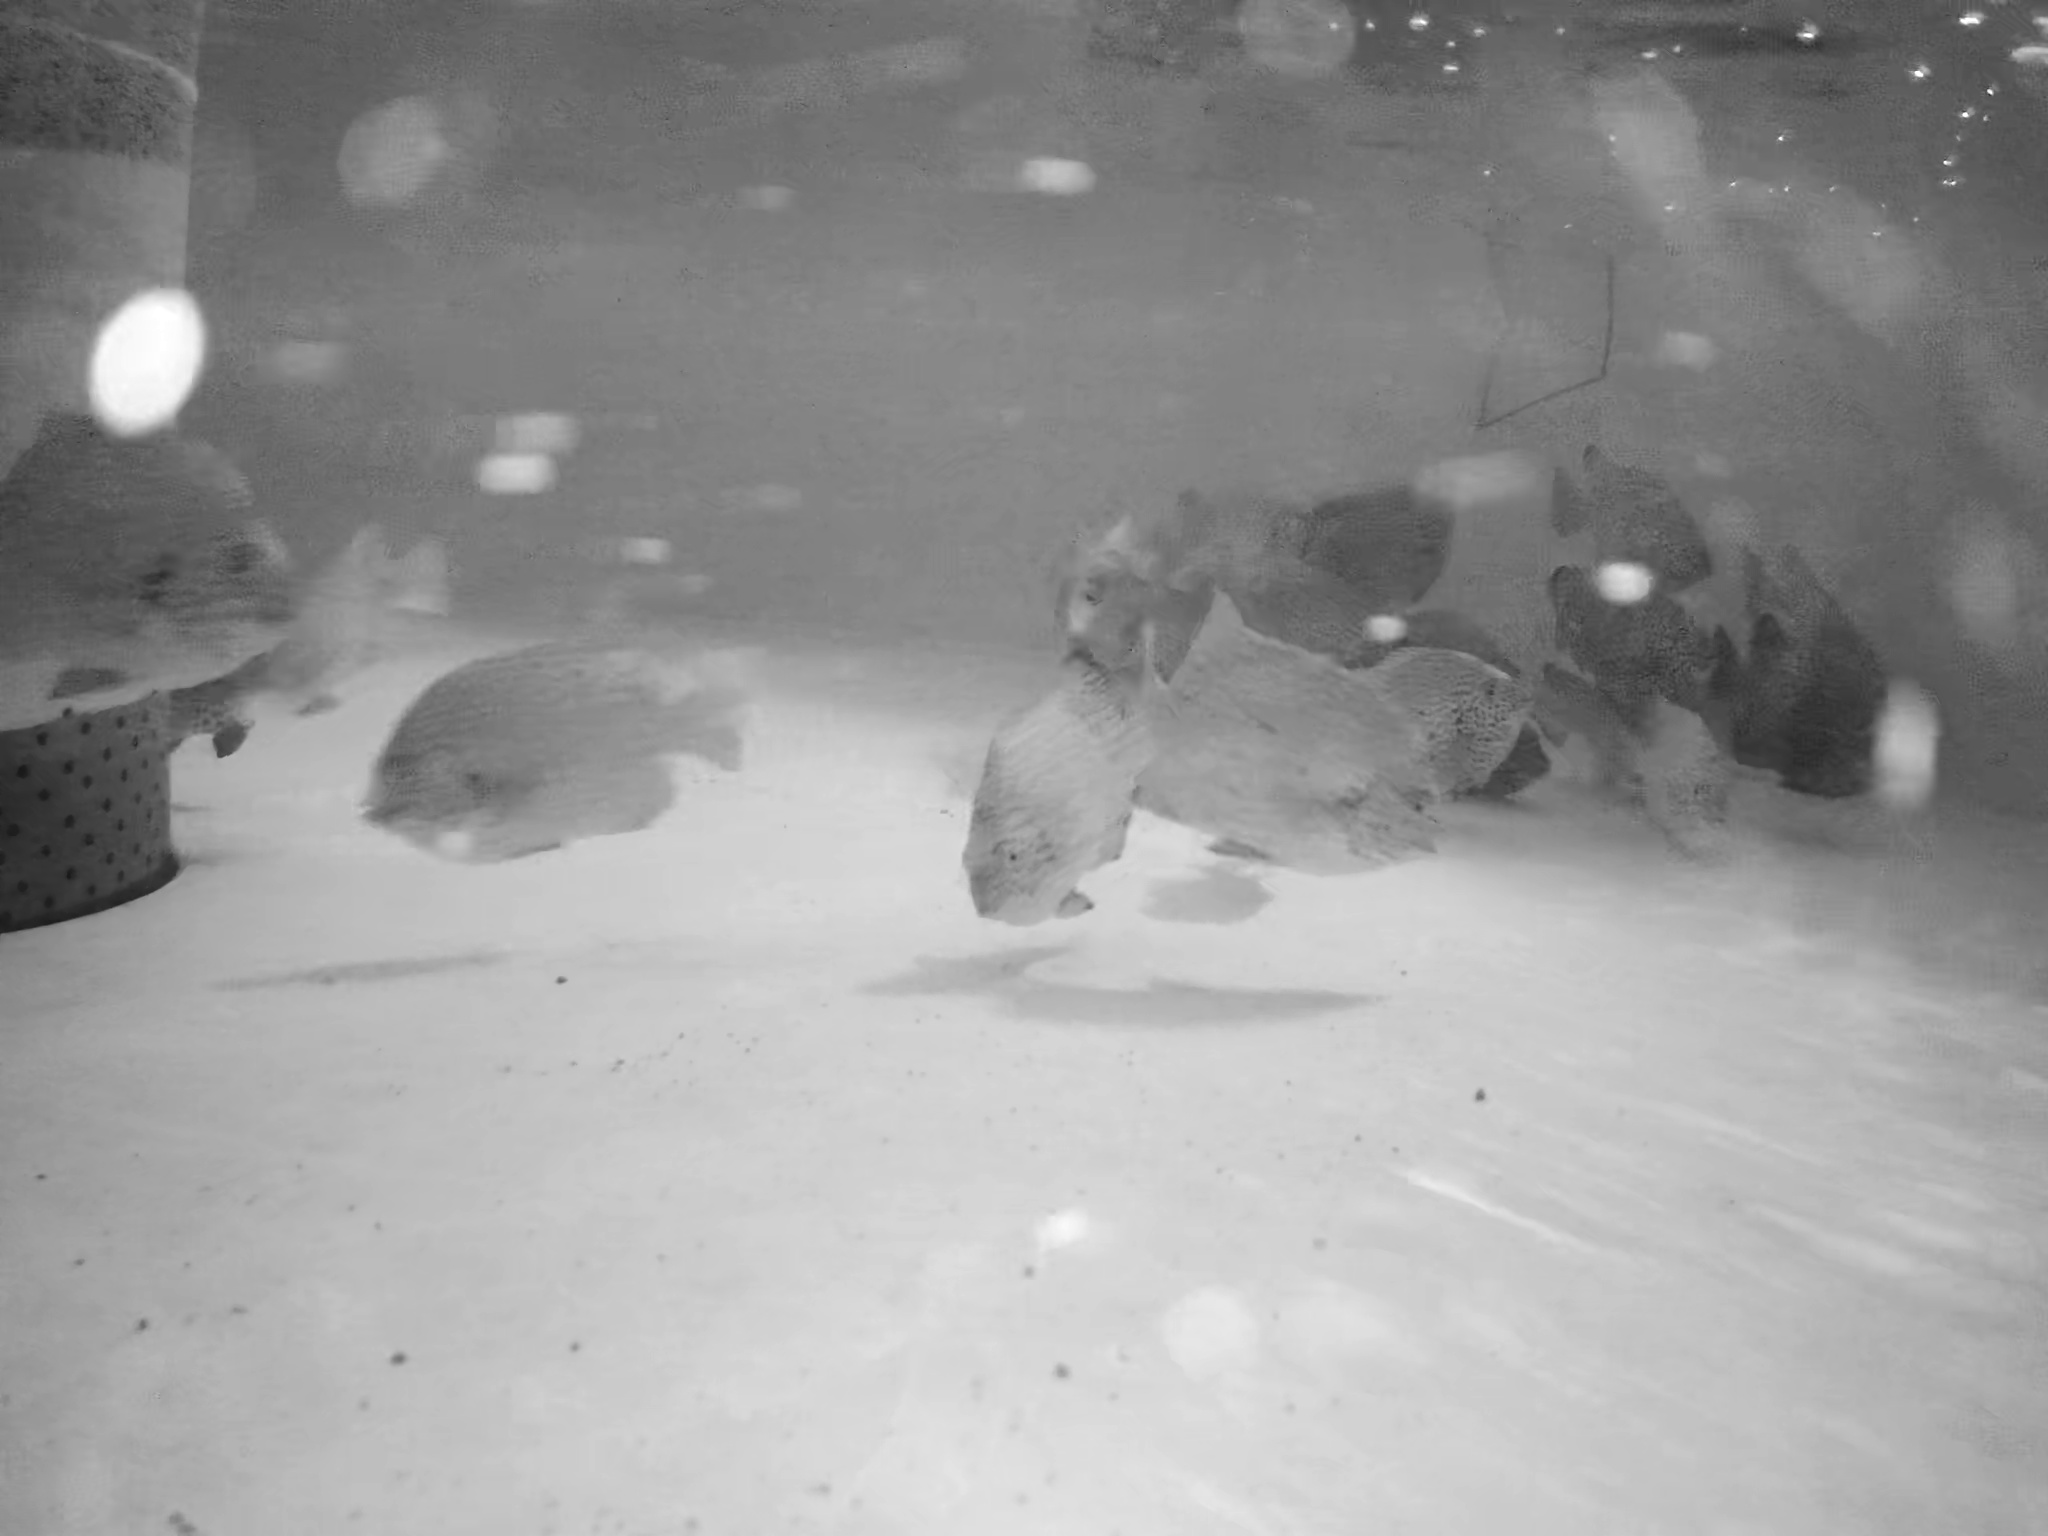fish: (1092, 607, 1466, 892), (3, 408, 316, 695), (361, 644, 789, 849), (1021, 478, 1393, 666), (1675, 557, 1908, 813), (1334, 632, 1571, 828), (1521, 410, 1737, 620), (968, 666, 1122, 941), (261, 524, 489, 673), (1306, 465, 1485, 637), (1522, 652, 1701, 795), (164, 652, 327, 736)
